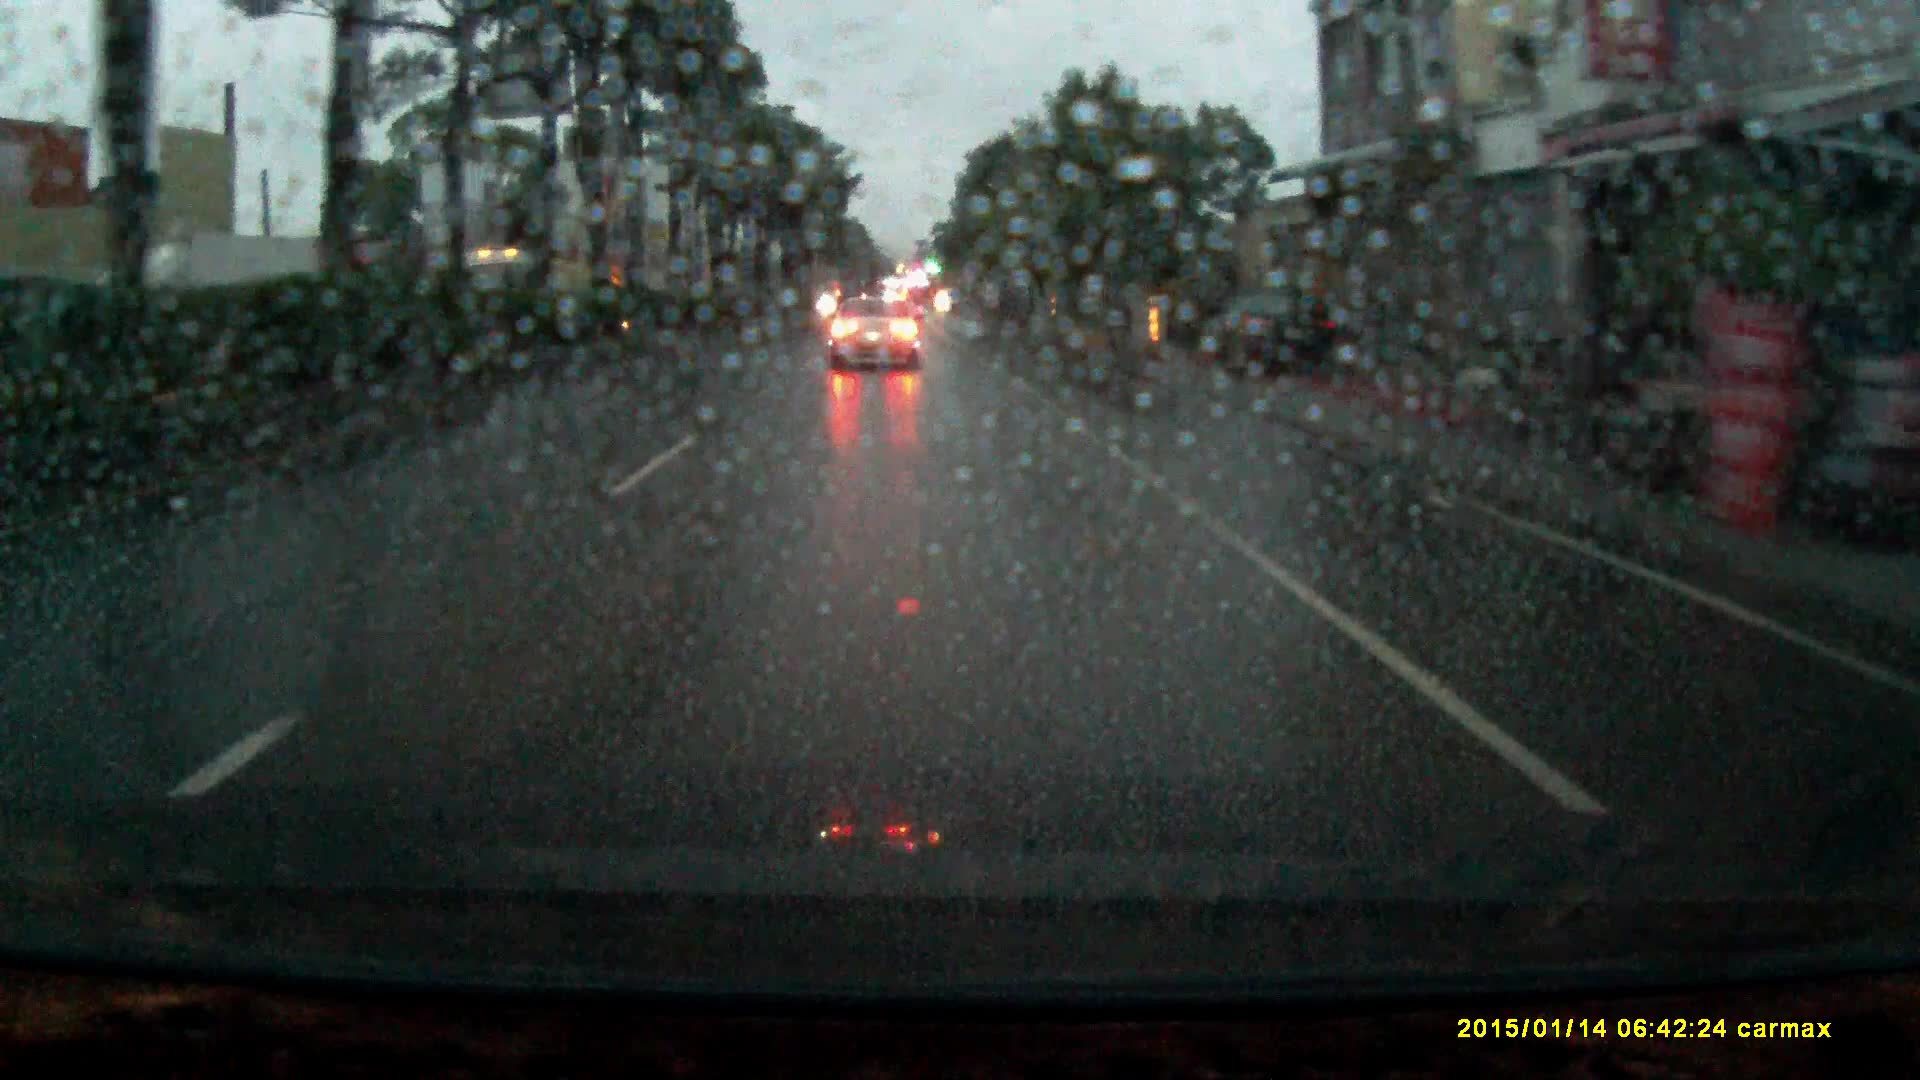vehicle: (95, 233, 305, 381), (442, 245, 597, 324), (1213, 301, 1340, 380), (827, 301, 924, 376)
